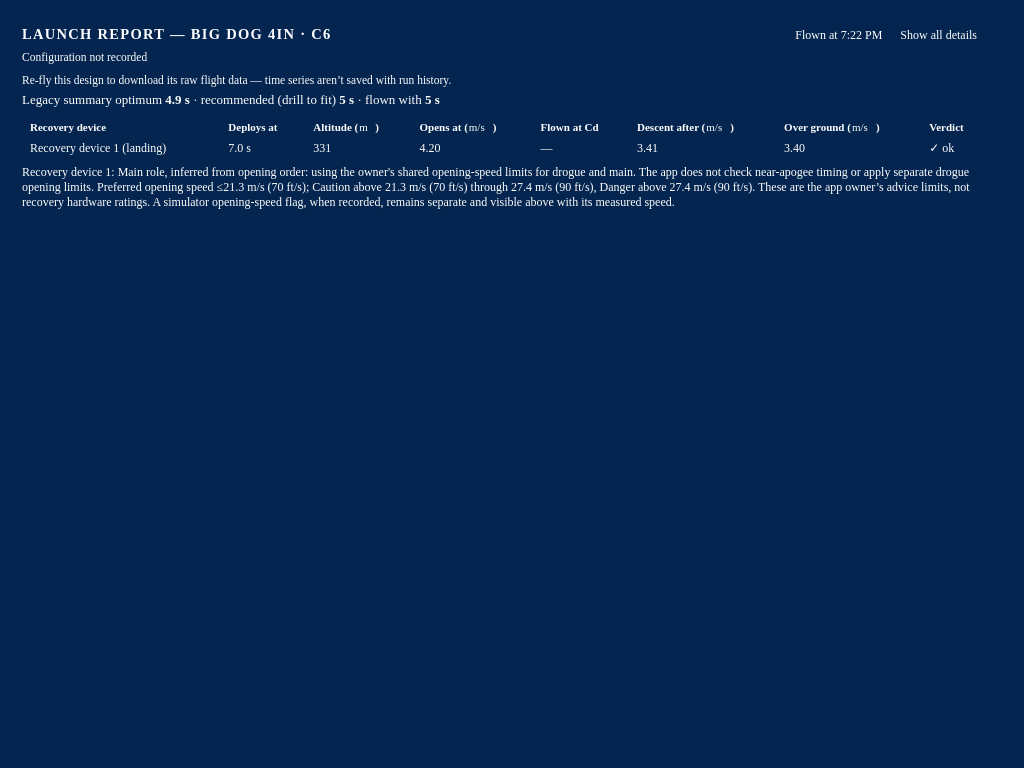
Test: does not coerce the saved detail sibling motorCount
Click the button "Show all details". click: (939, 36)
box: [890,24,987,47]
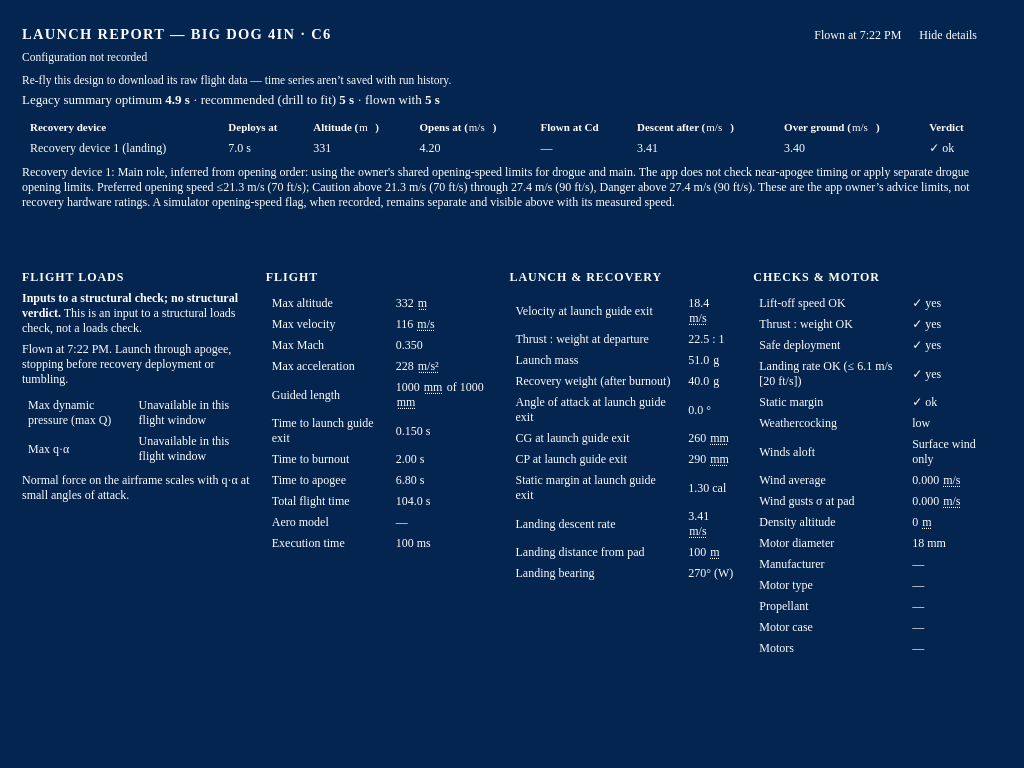
Result: the row "Motors —" is shown at [753,638,987,659]
